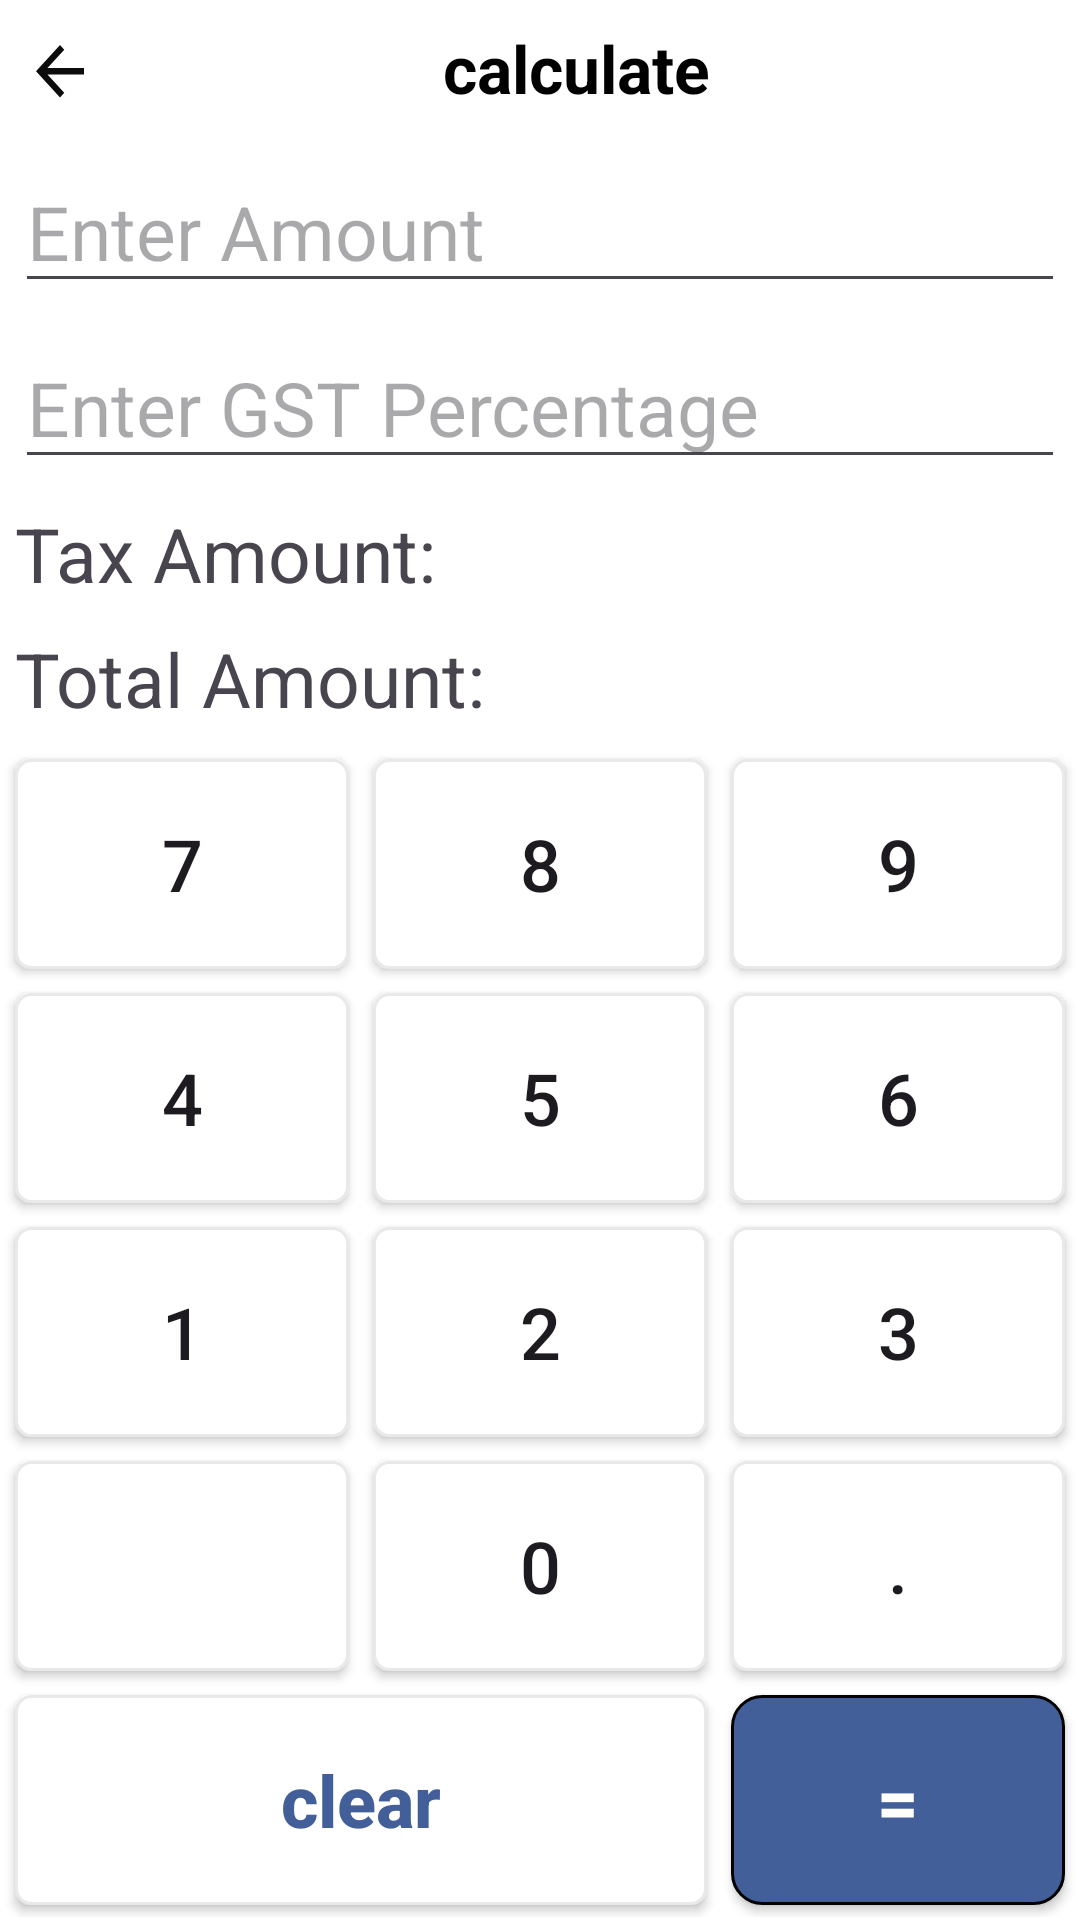

Icon bounding boxes for this 1080 x 1920 phone screenshot, format [x1, y1, x2, y2]:
back: [36, 45, 84, 98]
